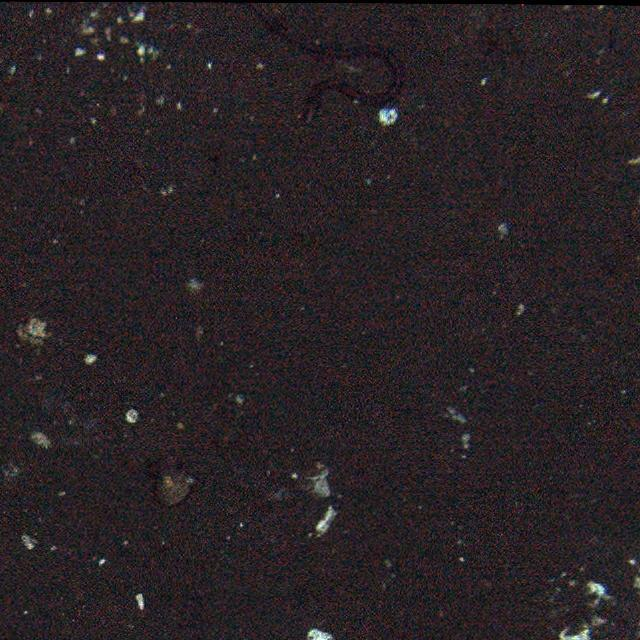eel: (245, 1, 406, 126)
